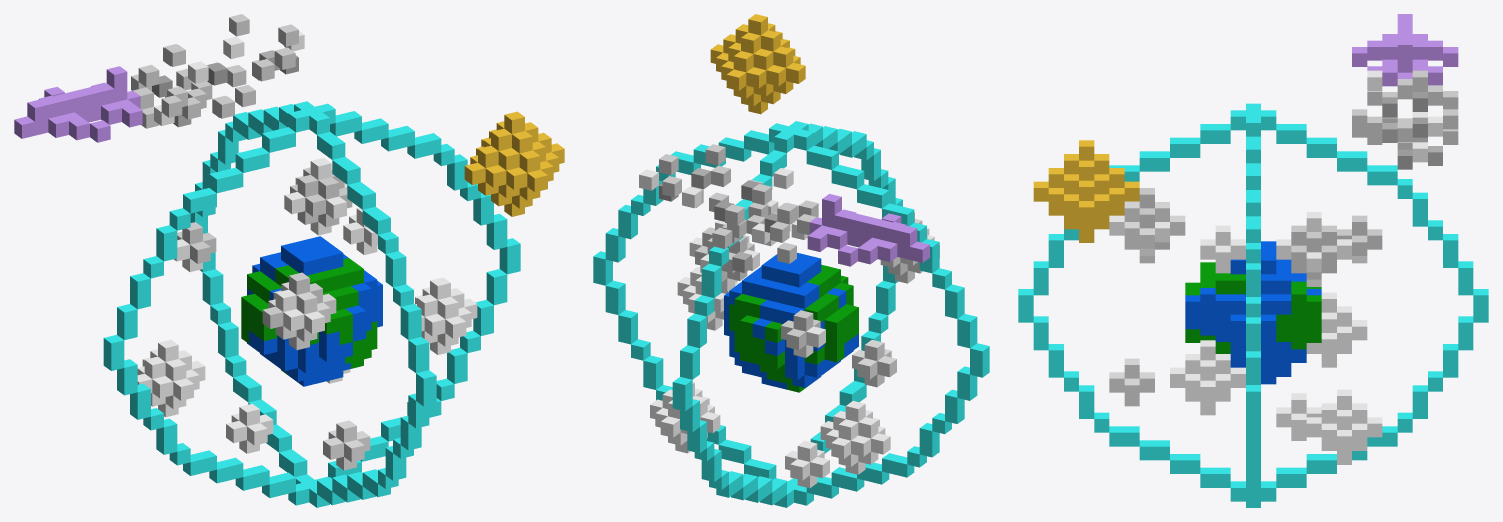
The model's file is jetsetter-vox.glb.
The picture shows the model from 3 angles, left to right: view 1: azimuth 30°, elevation 25°; view 2: azimuth 150°, elevation 25°; view 3: azimuth 270°, elevation 25°; orthographic projection. The views are drawn at different scales.
Parts seen in each view (by area): view 1: jetsetter; view 2: jetsetter; view 3: jetsetter.
Boxes of the visible parts, bbox=[...] form: jetsetter: bbox=[14, 14, 564, 507]; jetsetter: bbox=[593, 14, 989, 507]; jetsetter: bbox=[1018, 14, 1488, 507].
Bounding box in the file's own units: 3.2 × 3 × 3.1.
1 material, 1 textured.
